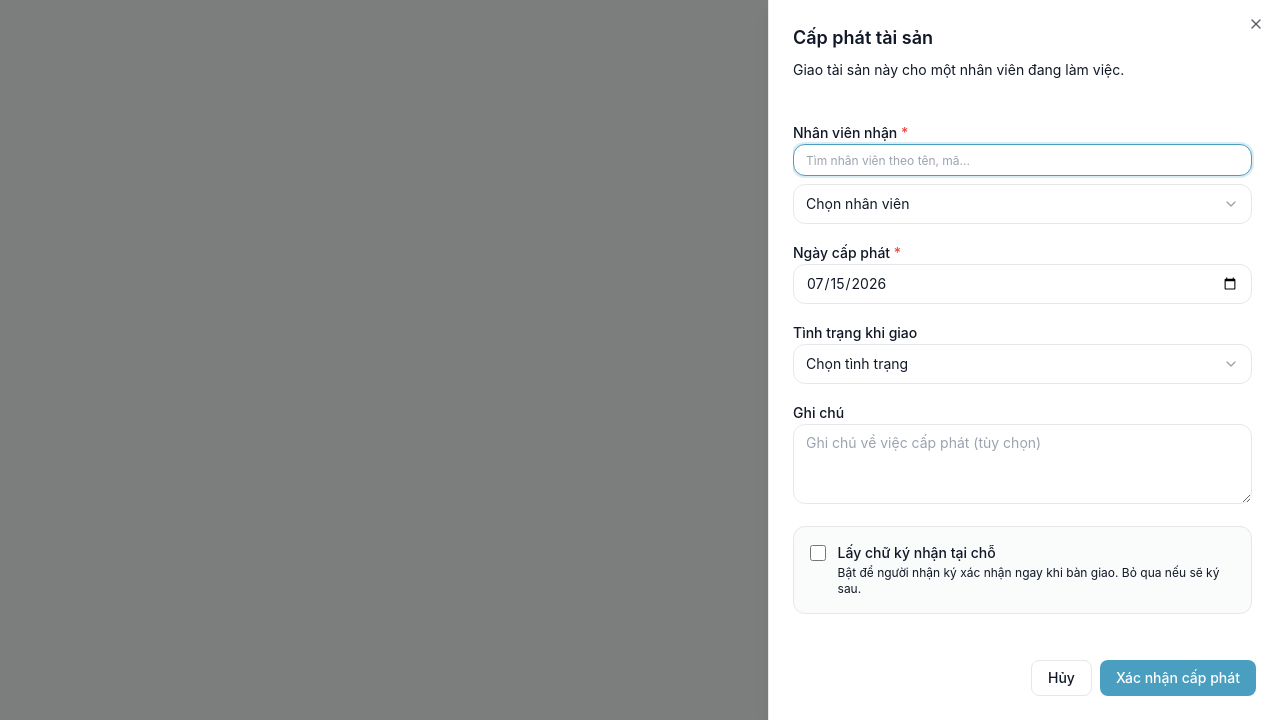
Test: AssignAssetSheet signature toggle › hides the signature pad until sign-on-assign is enabled
The image size is (1280, 720).
Click the checkbox labelled "Lấy chữ ký nhận tại chỗ" at (818, 553), box [810,545,826,561]
(page scrolled)
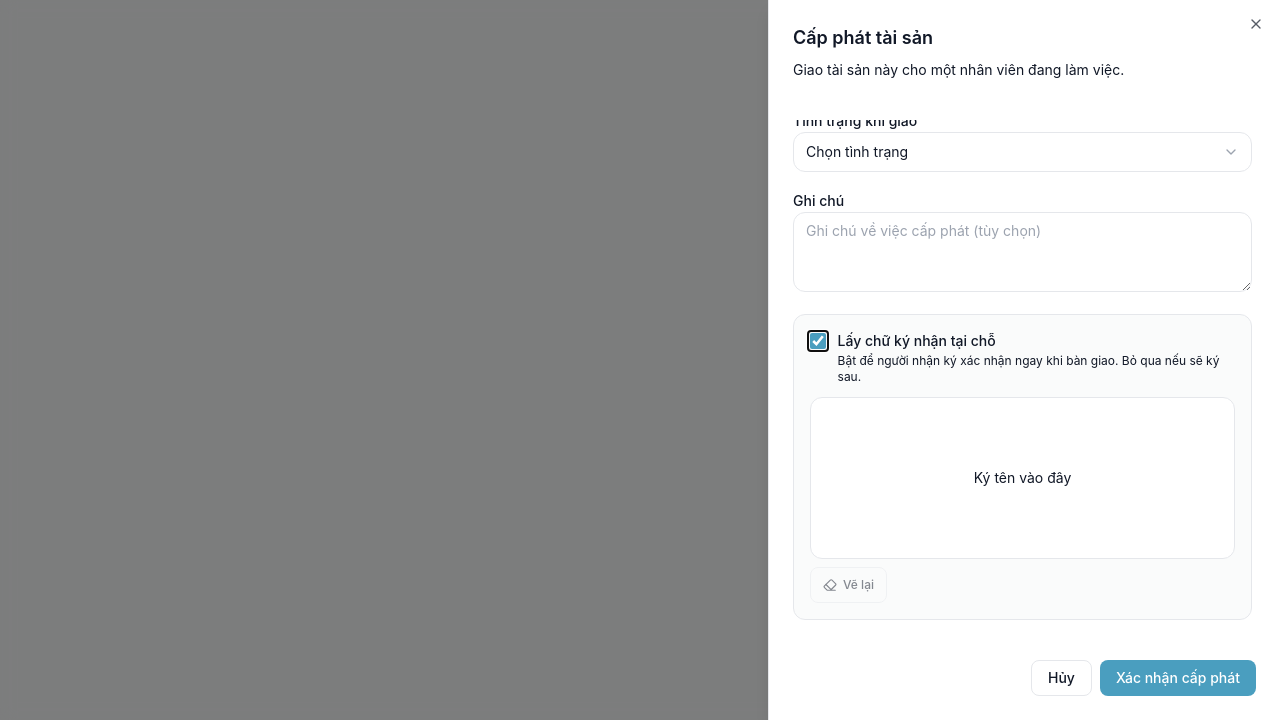
expect the picture named "Khu vực ký tên" is shown: met, box [811,398,1234,558]
